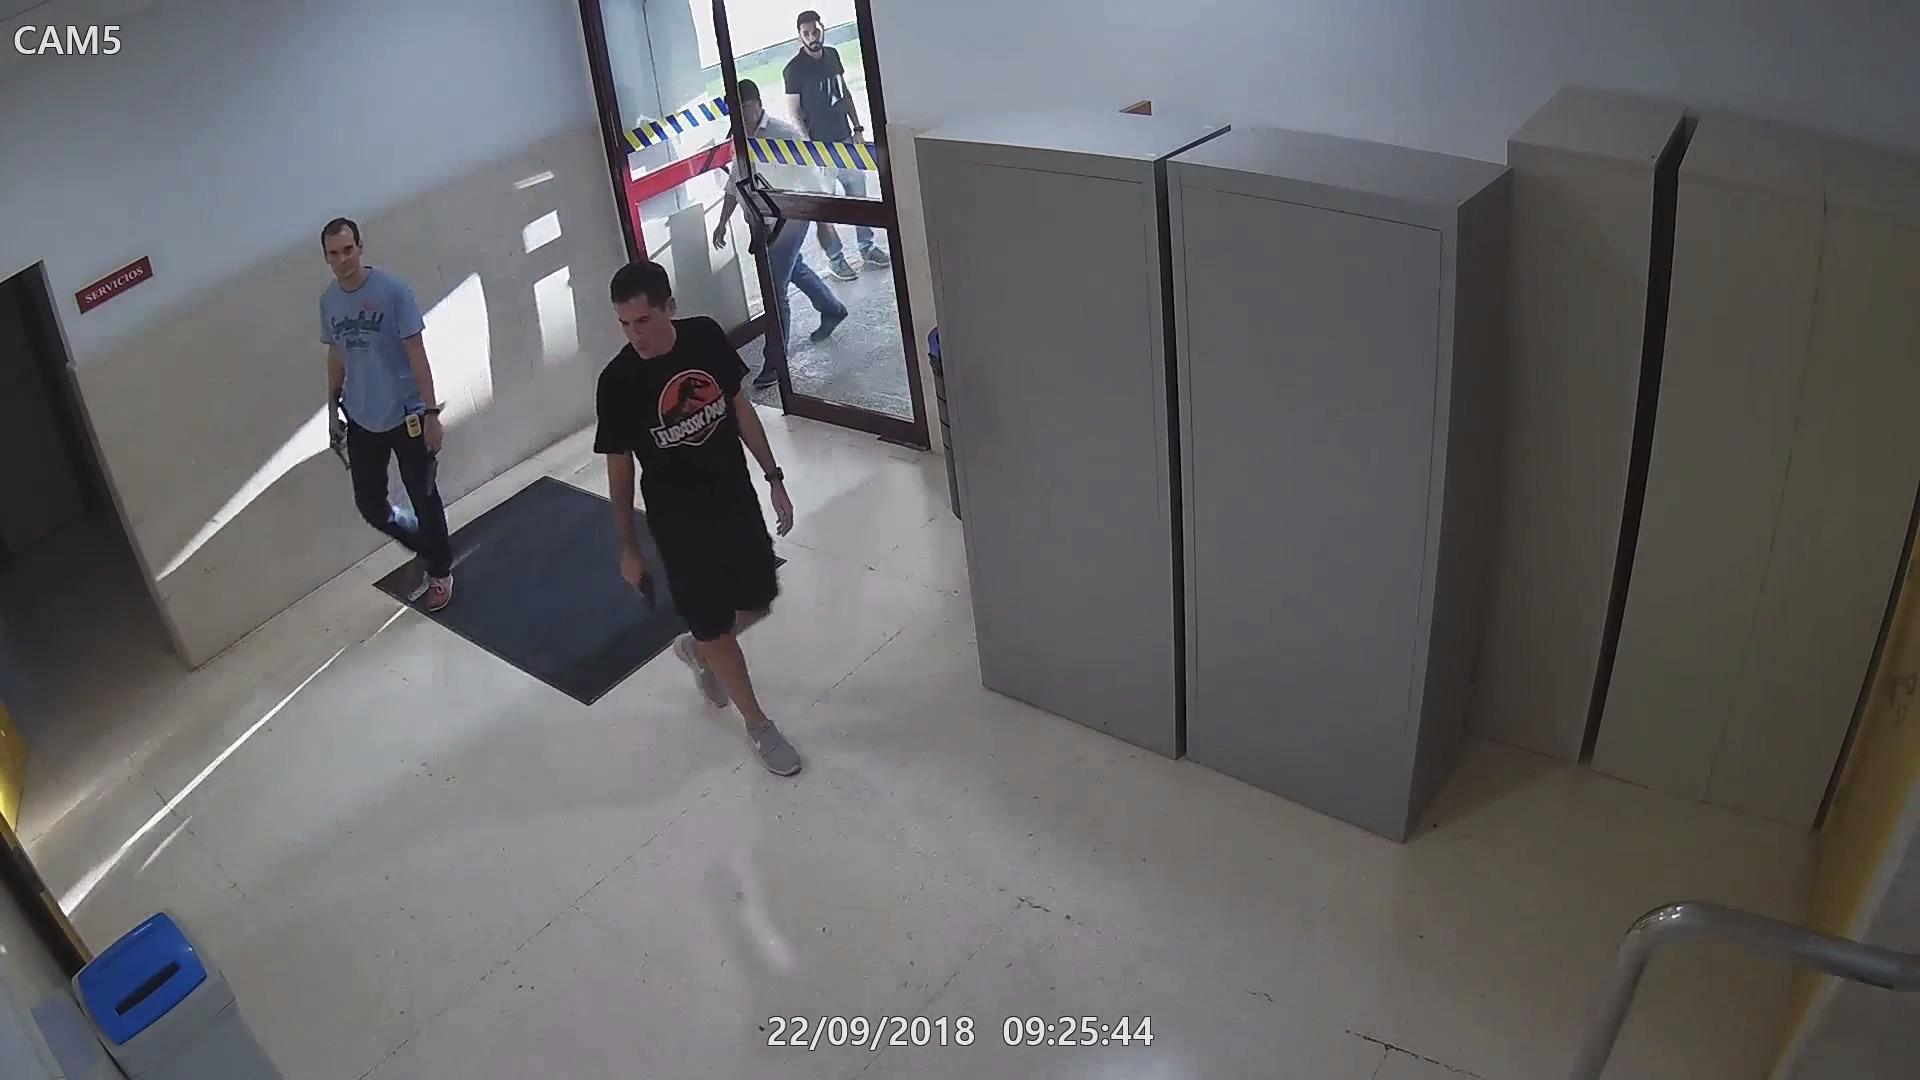Handgun: (632, 564, 694, 661), (314, 422, 343, 480)
